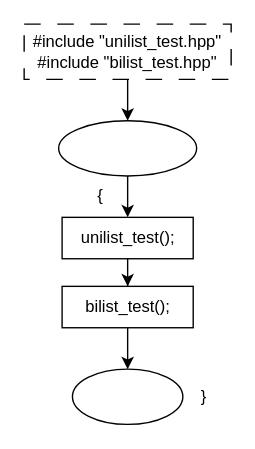
This 255x449 diagram has some shape labels left out. The centre of each missing label's shape, as x and y in pixels:
"int main()" belongs at (127,147).
"return 0;" belongs at (127,396).
